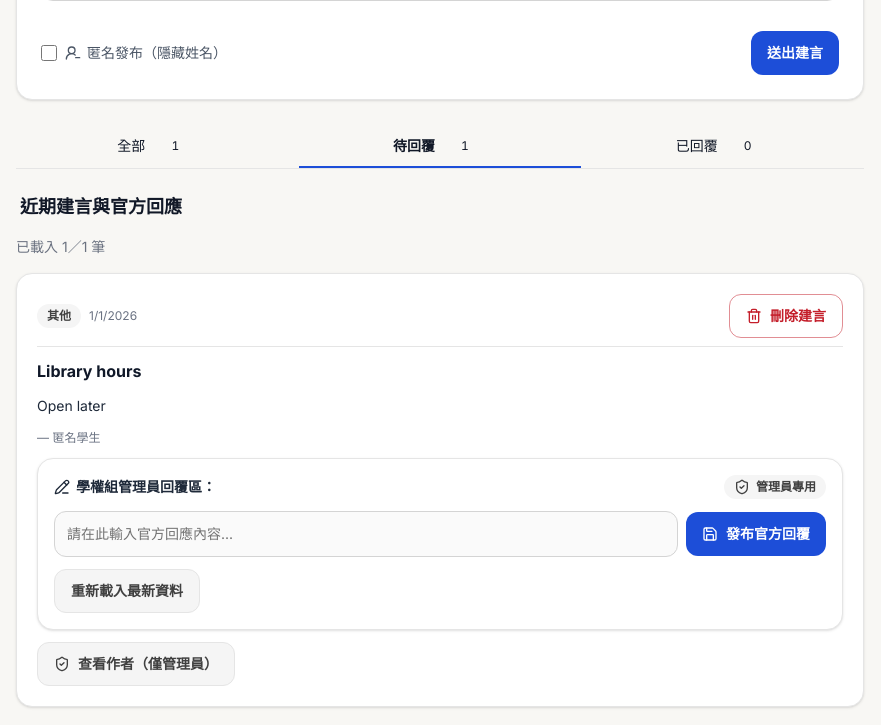
Test case: keeps default Awaiting success perceivable and recovers focus when its saved row leaves
(page scrolled)
Check: the text "Open later" is shown, box top-left (37, 397), bottom-right (106, 414)
Type "Saved reply" into the field named "回覆「Library hours」". click: (366, 534)
box: top-left (54, 511), bottom-right (678, 557)
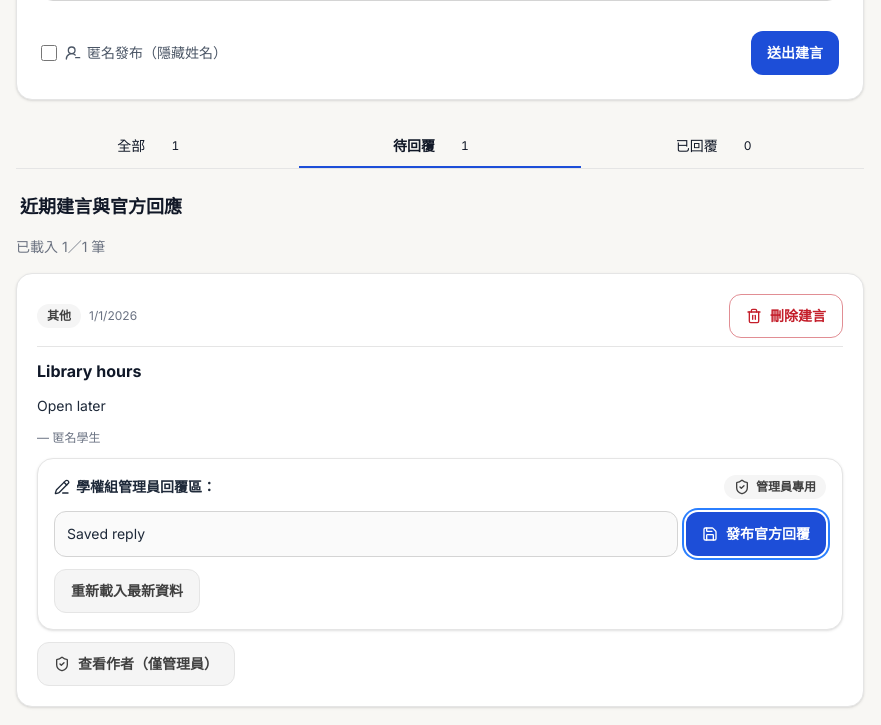
# When the successful refresh removes the row from Awaiting.
Click the button "發布官方回覆". click: (756, 534)
box: top-left (686, 512), bottom-right (826, 556)
(page scrolled)
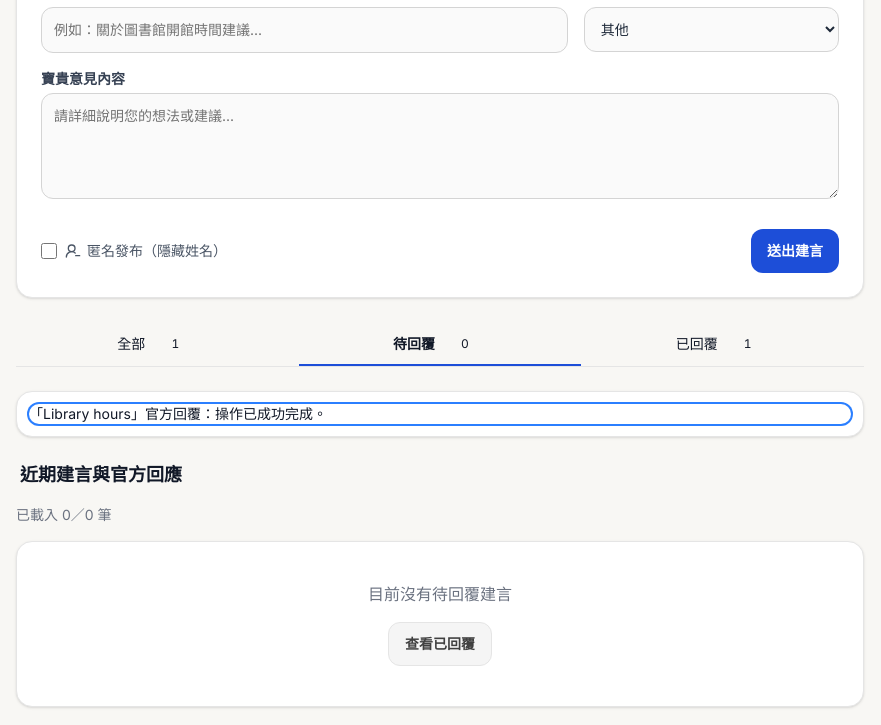
Check: the text "目前沒有待回覆建言" is shown, box top-left (368, 584), bottom-right (512, 604)
Check: the message reads "「Library hours」官方回覆：操作已成功完成。", box top-left (29, 404), bottom-right (851, 424)
